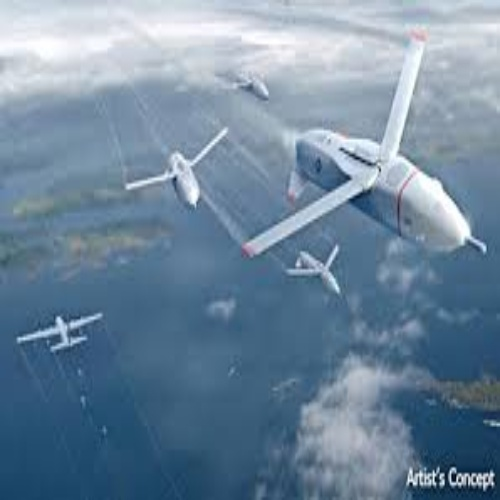uav529: (277, 38, 487, 256), (122, 126, 228, 210), (285, 243, 345, 297)
